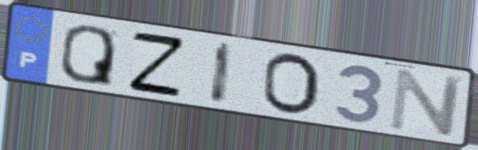3: (332, 62, 387, 125)
I: (207, 39, 236, 108)
N: (387, 67, 467, 138)
O: (259, 51, 321, 117)
Q: (57, 23, 117, 89)
Z: (126, 30, 188, 99)
